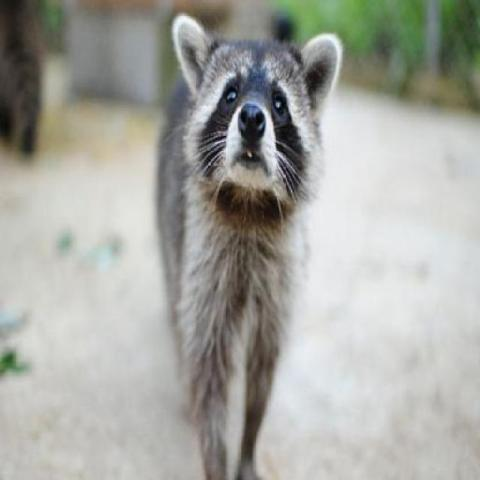small_animal: (152, 12, 344, 479)
